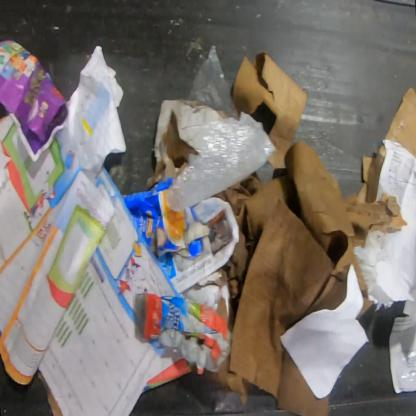cardboard: (204, 140, 375, 415), (122, 178, 240, 294), (232, 50, 308, 169), (144, 99, 226, 191), (342, 143, 408, 248), (178, 265, 232, 324), (383, 87, 415, 160)
soft_plastic: (166, 111, 277, 213), (185, 44, 239, 120)
